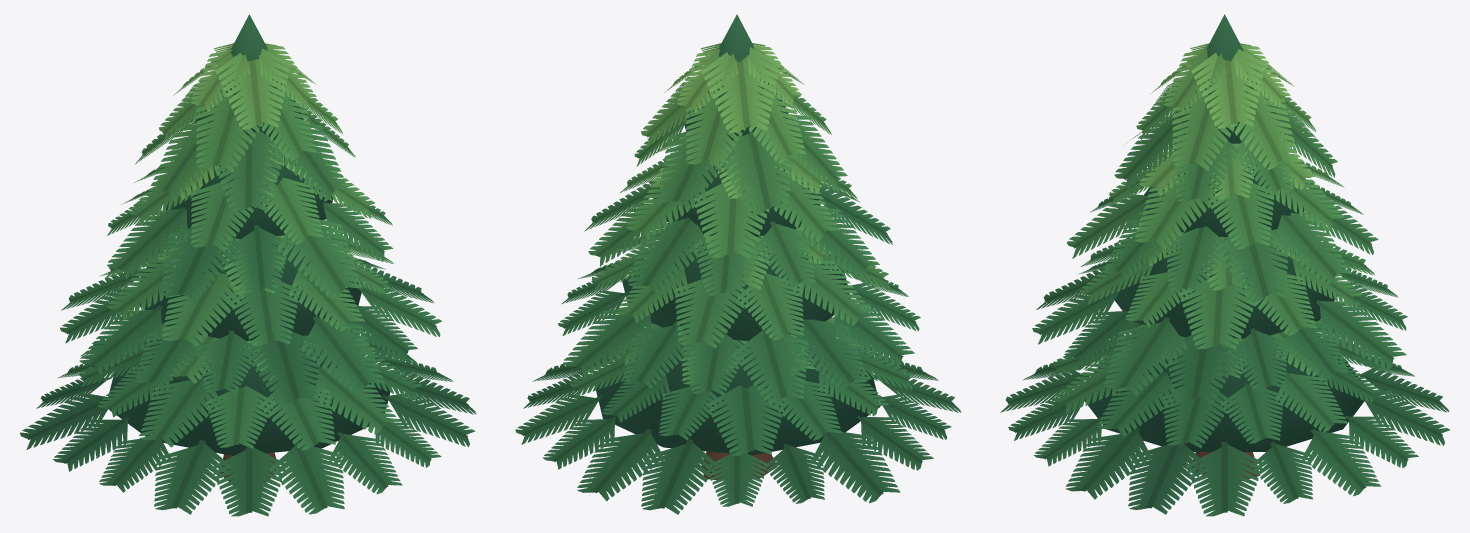
File: tree-pine.glb
The picture shows the model from 3 angles, left to right: view 1: azimuth 30°, elevation 25°; view 2: azimuth 150°, elevation 25°; view 3: azimuth 270°, elevation 25°; orthographic projection.
Visible parts, largest first — view 1: tree-pine; view 2: tree-pine; view 3: tree-pine.
Boxes of the visible parts, x1,y1,x2,y2 form: tree-pine: [20, 14, 476, 516]; tree-pine: [515, 14, 961, 514]; tree-pine: [1000, 14, 1449, 516].
Bounding box in the file's own units: 4.58 × 4.97 × 4.56.
2 materials, 1 textured.
